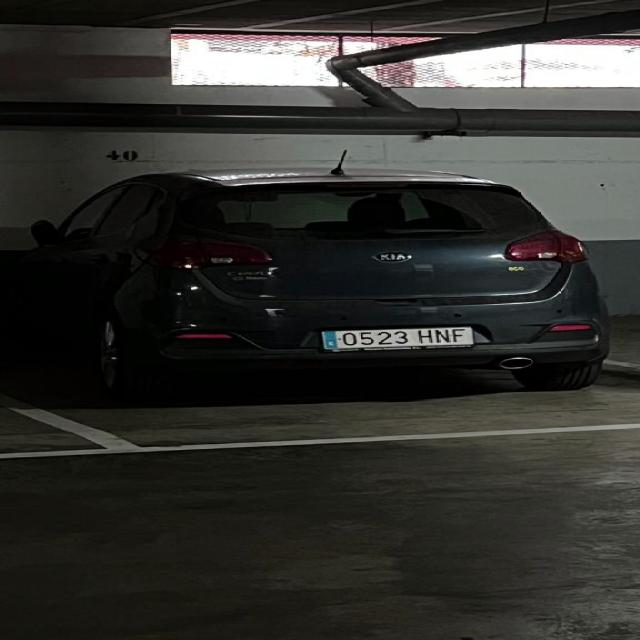License-Plate: (322, 326, 476, 349)
